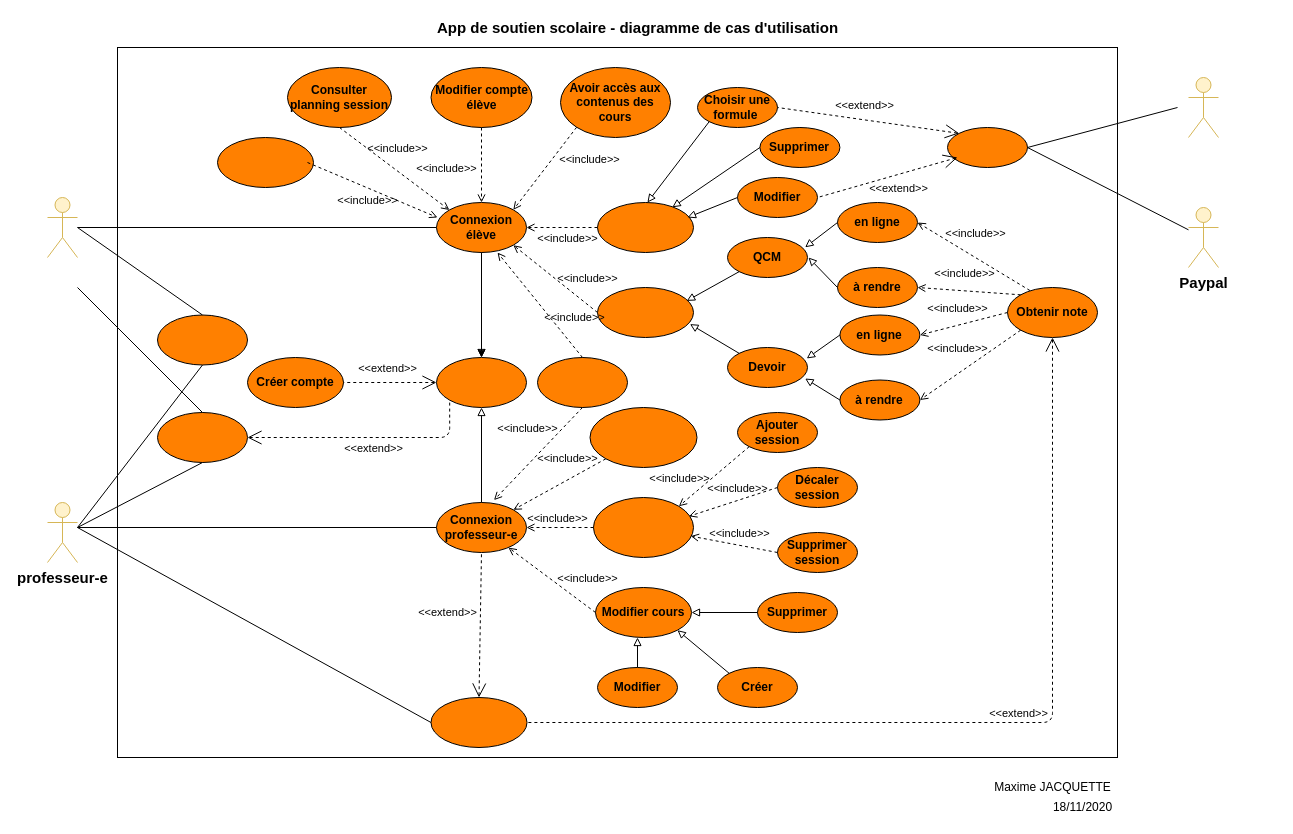
Some shapes in this 1293 by 834 pixel diagram are drawn without their labels. Here are the shapes that lost their labels. From the top down, the centre of each, then its label:
At point 1203,107: "Service de paiement par carte".
At point 265,162: "Consulter notes".
At point 987,147: "Payer".
At point 62,227: "élève".
At point 645,227: "Gérer abonnement".
At point 645,312: "Passer évaluations".
At point 202,339: "Consulter catalogue de cours".
At point 481,382: "Se connecter".
At point 582,382: "Communiquer".
At point 202,437: "Assister à la session".
At point 643,437: "Modifier compte professeur-e".
At point 643,527: "Gérer planning cours".
At point 478,722: "Corriger devoir".
